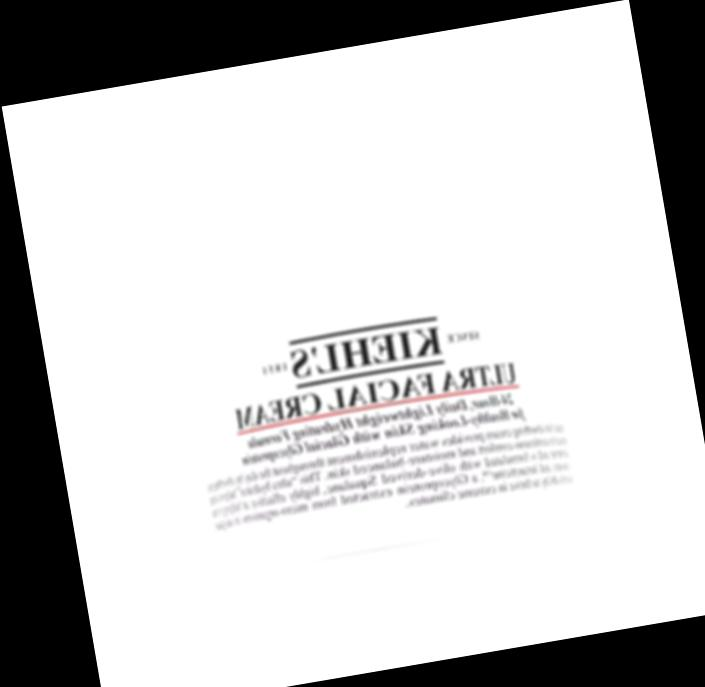cosmetic: (167, 208, 589, 579)
